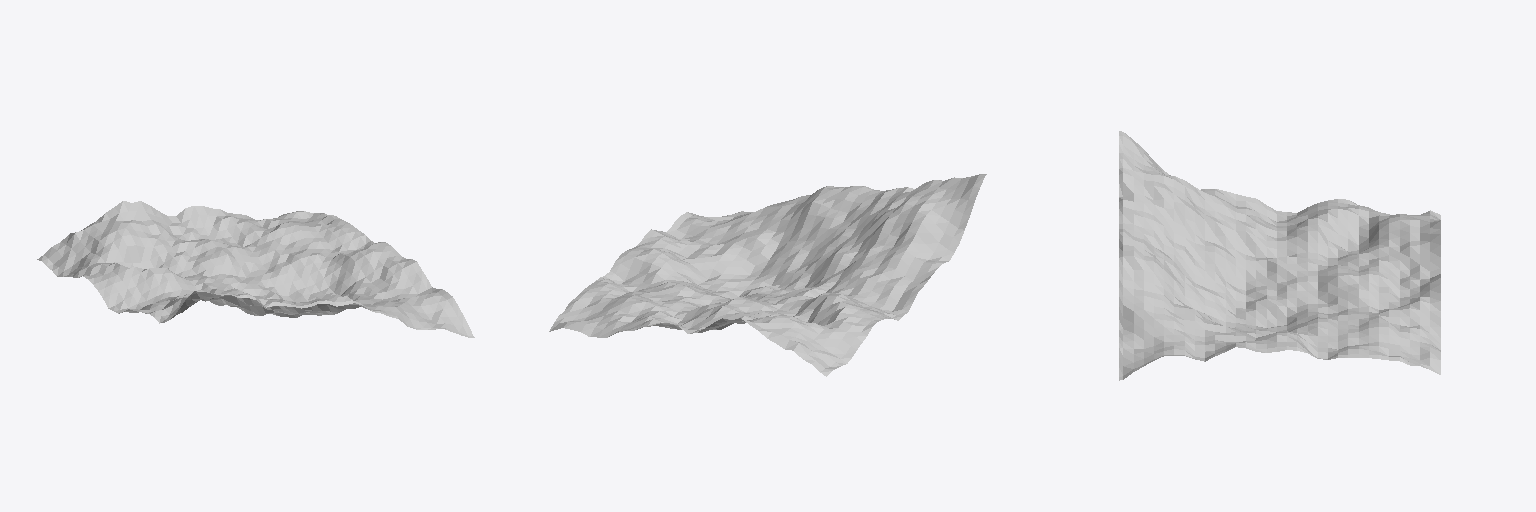
File: heightmap.025.obj
3 views of the same model, side by side, from view 1: azimuth 30°, elevation 25°; view 2: azimuth 150°, elevation 25°; view 3: azimuth 270°, elevation 25° (orthographic).
Parts seen in each view (by area): view 1: heightmap.025_Plane.025; view 2: heightmap.025_Plane.025; view 3: heightmap.025_Plane.025.
Part boxes in pixels (bbox=[...]): heightmap.025_Plane.025: bbox=[37, 201, 474, 337]; heightmap.025_Plane.025: bbox=[549, 174, 986, 376]; heightmap.025_Plane.025: bbox=[1119, 131, 1440, 380].
Bounding box in the file's own units: 32 × 12.5 × 32.